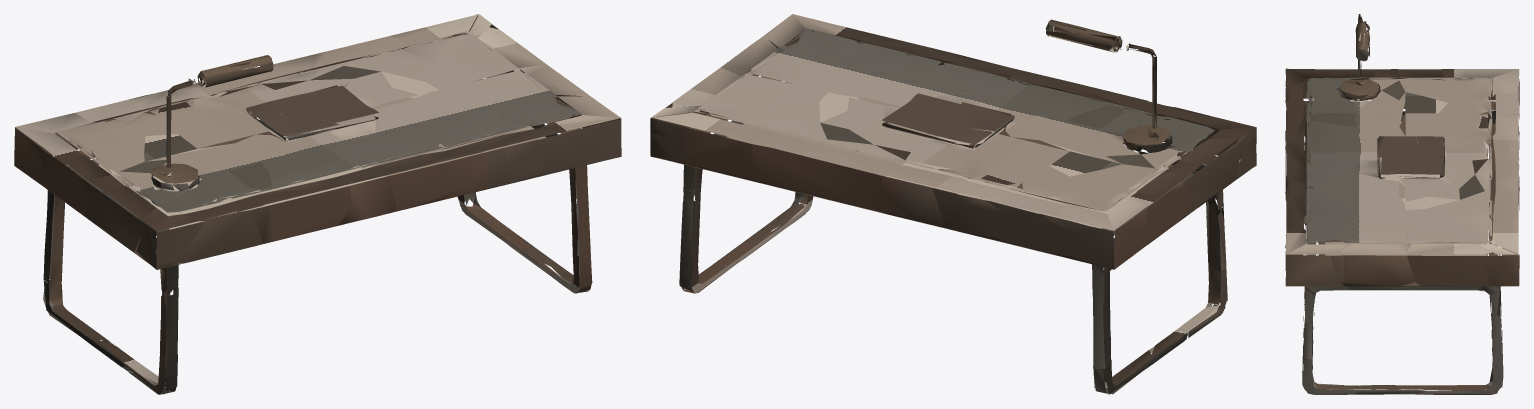
Rendered from exec_desk.glb.
3 renders of one model, left to right at view 1: azimuth 30°, elevation 25°; view 2: azimuth 150°, elevation 25°; view 3: azimuth 270°, elevation 25°, orthographic. The views are drawn at different scales.
Parts seen in each view (by area): view 1: LO.001; view 2: LO.001; view 3: LO.001.
Part boxes in pixels (left/top/right/bottom): LO.001: left=14, top=14, right=621, bottom=394; LO.001: left=650, top=14, right=1256, bottom=394; LO.001: left=1285, top=14, right=1519, bottom=394.
Bounding box in the file's own units: 2 × 1.16 × 1.06.
Materials: 1 (1 with a texture image).
